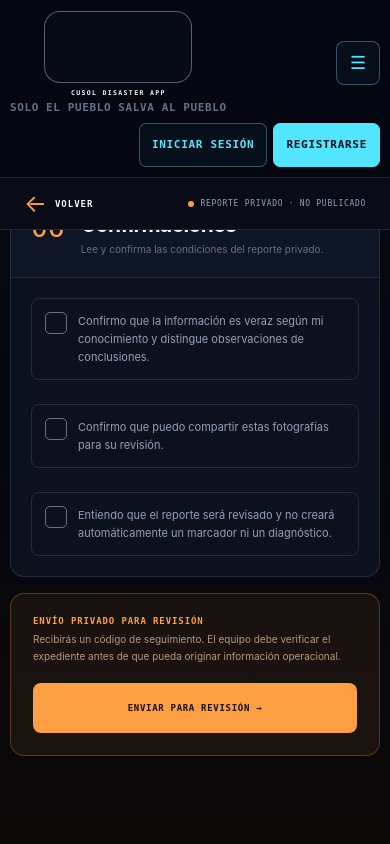
Test: CHG-035 · Reporte de edificio con búsqueda pendiente › impide enviar un formulario incompleto
(page scrolled)
What coordinates should you click on to do the following:
click the button with aria-label "Enviar reporte de edificio para revisión"
I would click on:
 (195, 708)
Its box is x1=33 y1=683 x2=357 y2=733.
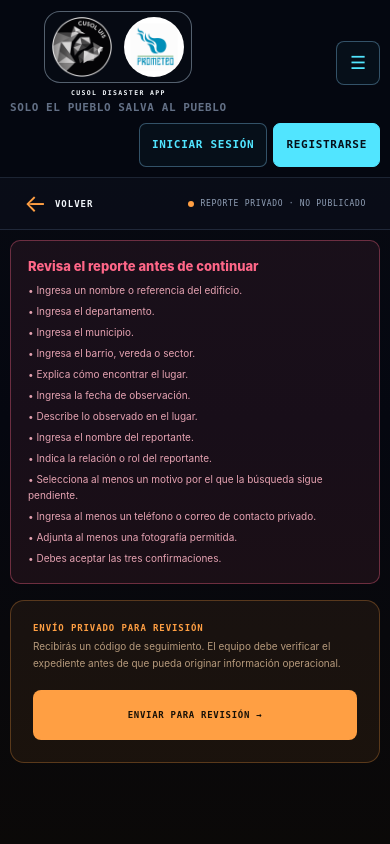
Now the text "Revisa el reporte antes de continuar" is shown, box x1=28 y1=258 x2=259 y2=274
Now the text "• Ingresa un nombre o referencia del edificio." is shown, box x1=28 y1=284 x2=242 y2=296
Now the text "al menos un motivo" is shown, box x1=28 y1=473 x2=325 y2=501
